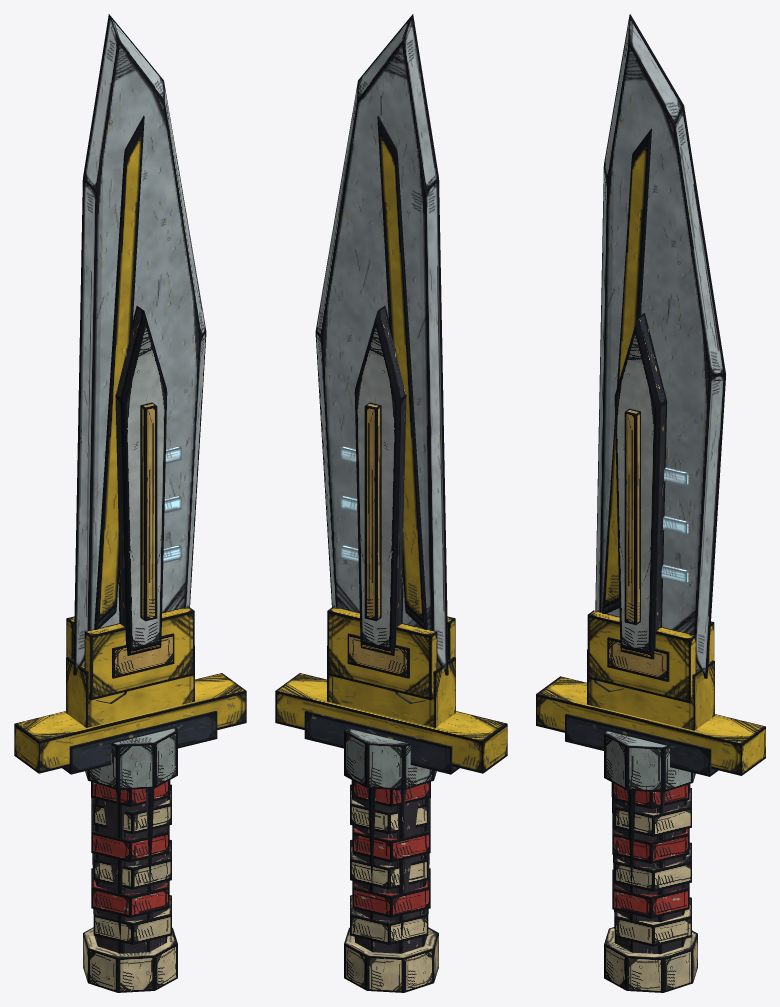
The model's file is 06_Crossbrand.glb.
3 views of the same model, side by side, from view 1: azimuth 30°, elevation 25°; view 2: azimuth 150°, elevation 25°; view 3: azimuth 330°, elevation 25° (orthographic).
Visible parts, largest first — view 1: blade_hyperion, grip_bandit, FACE_FRONT; view 2: blade_hyperion, grip_bandit, FACE_BACK; view 3: blade_hyperion, grip_bandit, FACE_FRONT.
Boxes of the visible parts, box(x1,y1,x2,y2) form: blade_hyperion: box(14, 14, 246, 774); grip_bandit: box(83, 728, 177, 992); FACE_FRONT: box(112, 305, 174, 678); blade_hyperion: box(275, 14, 507, 774); grip_bandit: box(344, 728, 438, 992); FACE_BACK: box(347, 305, 409, 678); blade_hyperion: box(536, 14, 765, 776); grip_bandit: box(604, 730, 697, 992); FACE_FRONT: box(607, 313, 669, 681).
Size of the model in its own units: 0.44 by 1.95 by 0.18.
Materials: 4 (4 with a texture image).
